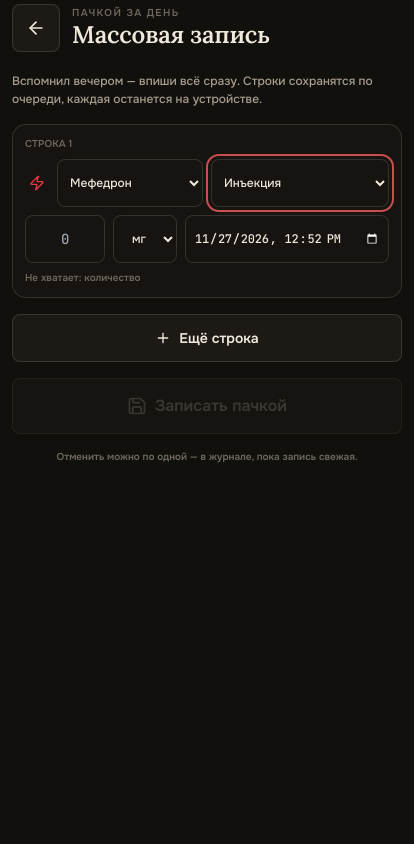
Scenario: BulkAdd › saves every filled row and opens the journal
Earlier steps of the test are not shown.
Type "1" into the field named "Количество" at (65, 239), box 25,215 -> 105,263
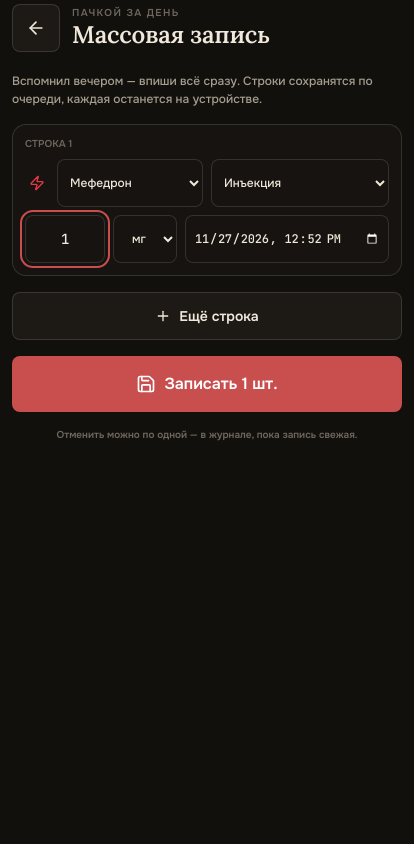
Click the button "Ещё строка" at (207, 316), box 12,292 -> 402,340
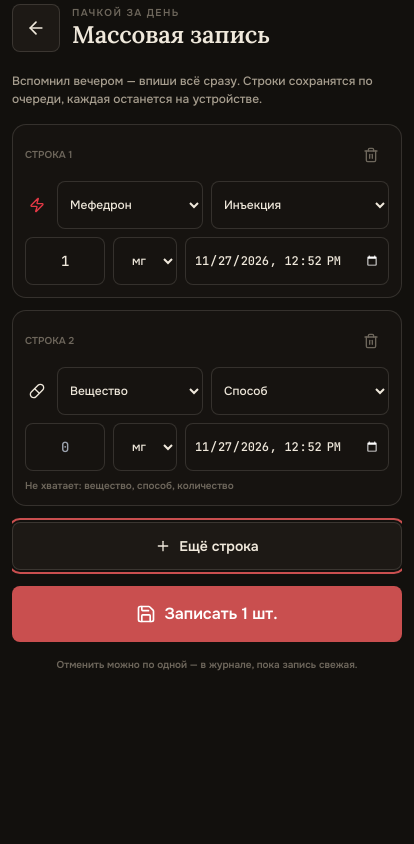
Select "Марихуана" in the 4th dropdown at (130, 391), box 57,367 -> 203,415
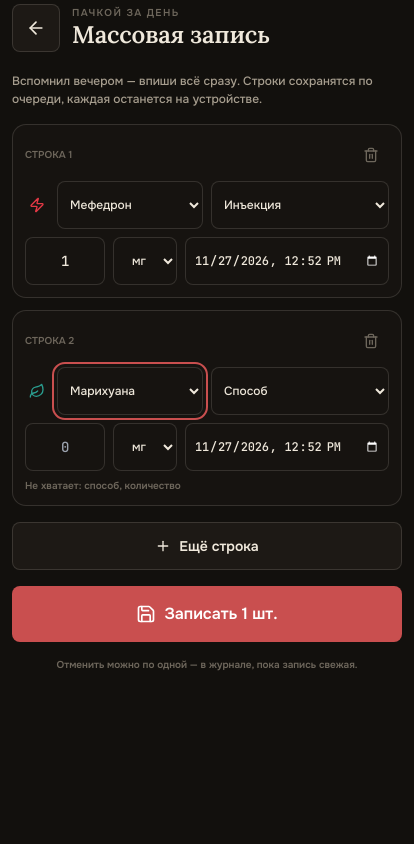
Select "Курение" in the 5th dropdown at (300, 391), box 211,367 -> 389,415
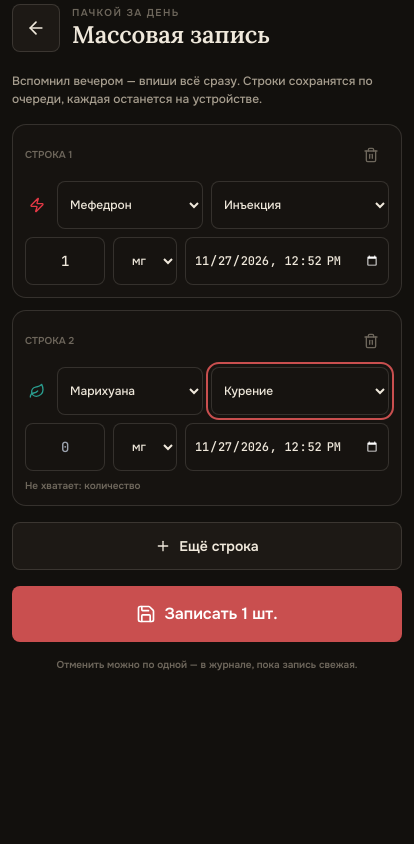
Type "0.2" into the field named "Количество" at (65, 447), box 25,423 -> 105,471
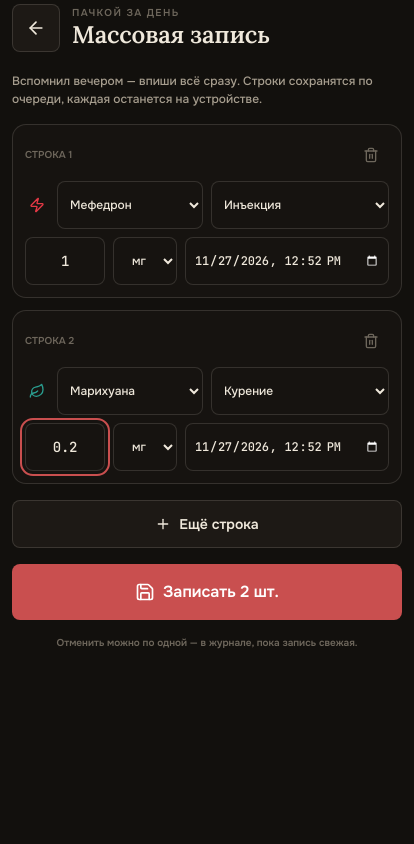
Click the button "Записать 2 шт." at (207, 592), box 12,564 -> 402,620
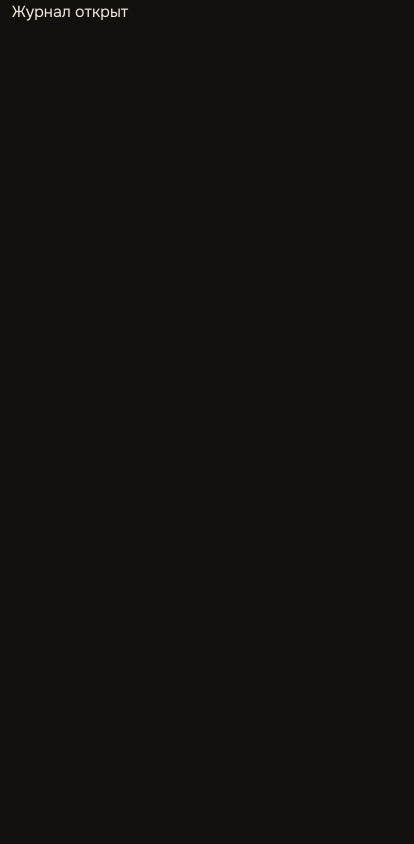
Now the text "Журнал открыт" is shown, box 12,1 -> 128,22
